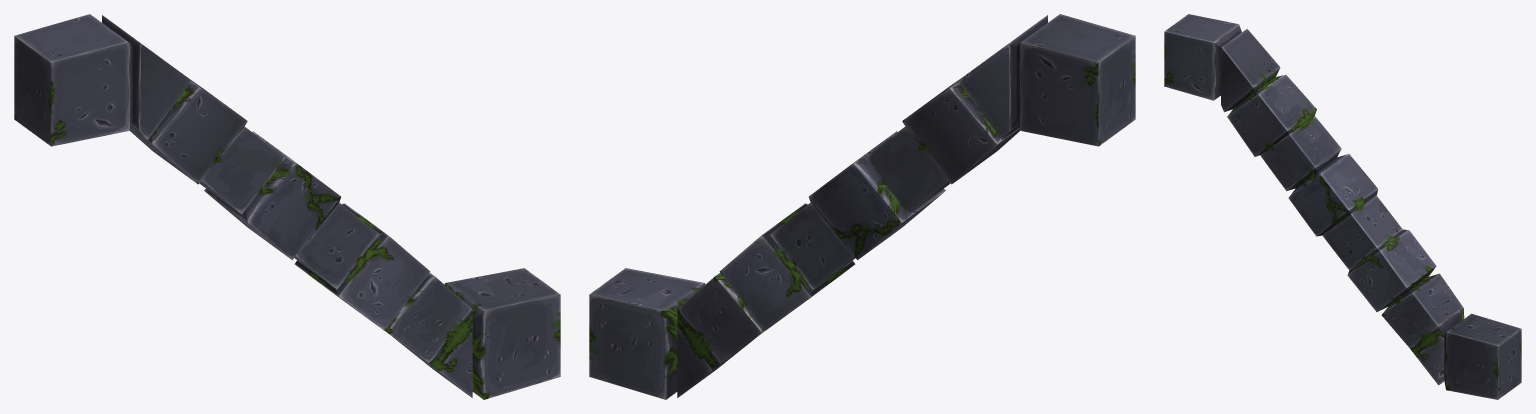
File: MOD_Stairs_01_Railing_1_2.fbx
The picture shows the model from 3 angles, left to right: view 1: azimuth 30°, elevation 25°; view 2: azimuth 150°, elevation 25°; view 3: azimuth 330°, elevation 25°; orthographic projection. The views are drawn at different scales.
Parts seen in each view (by area): view 1: MOD_Stairs_01_Railing_1_2; view 2: MOD_Stairs_01_Railing_1_2; view 3: MOD_Stairs_01_Railing_1_2.
Boxes of the visible parts, bbox=[...] form: MOD_Stairs_01_Railing_1_2: bbox=[14, 14, 560, 399]; MOD_Stairs_01_Railing_1_2: bbox=[589, 14, 1135, 399]; MOD_Stairs_01_Railing_1_2: bbox=[1164, 14, 1521, 399].
Size of what is drawn, in the model's own units: 600 by 499 by 93.
